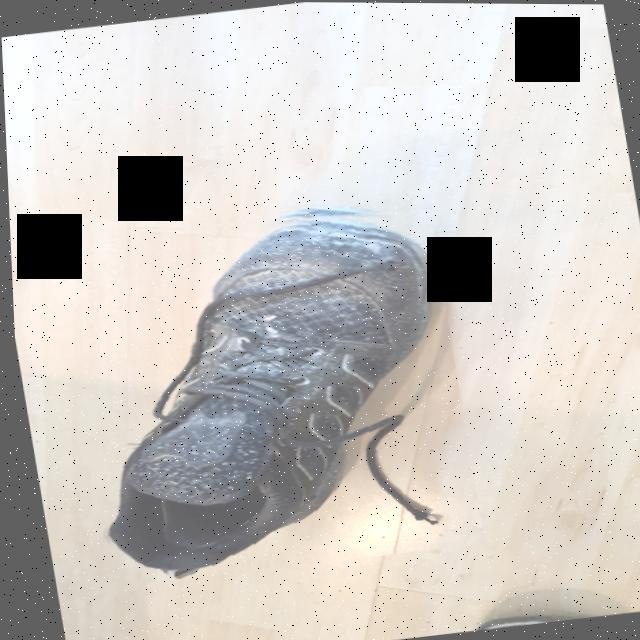shoe: (45, 188, 481, 589)
